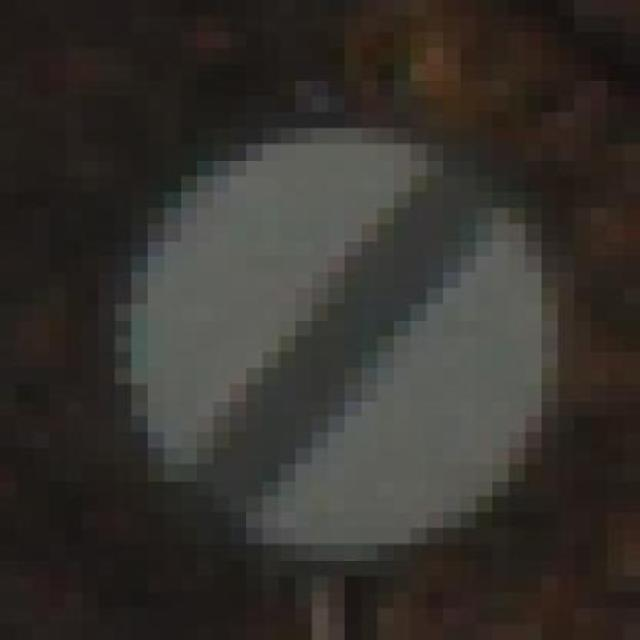End of all speed and passing limits: (104, 95, 582, 574)
